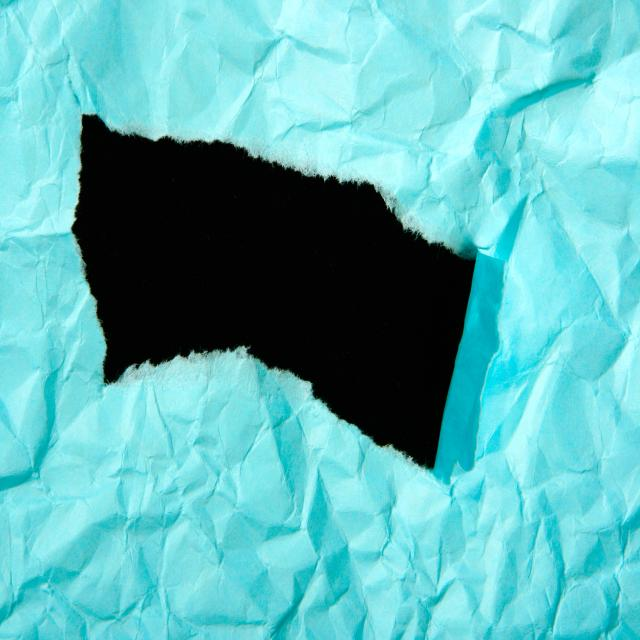paper: (156, 388, 352, 612)
